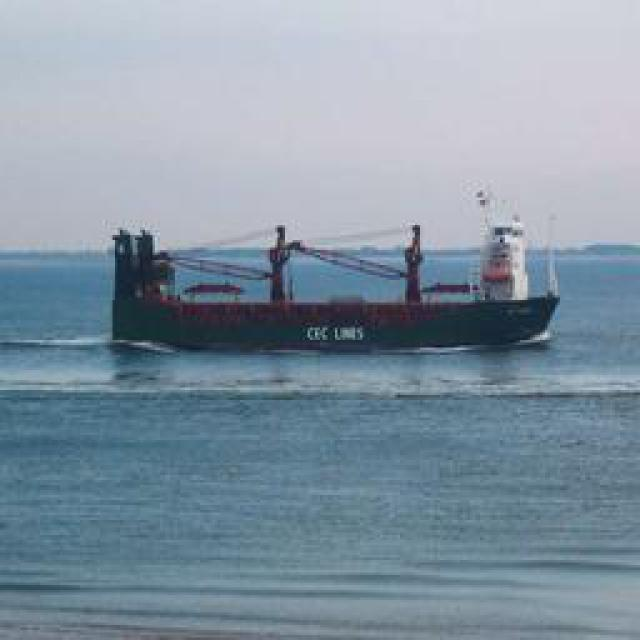Ship: (108, 220, 556, 353)
